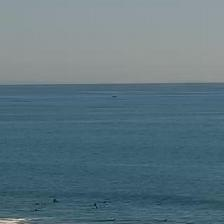surfer: (109, 218, 116, 222), (103, 200, 108, 204), (35, 209, 40, 212), (53, 199, 58, 202), (36, 202, 40, 205), (164, 219, 167, 222), (94, 202, 96, 206), (96, 206, 98, 210)
